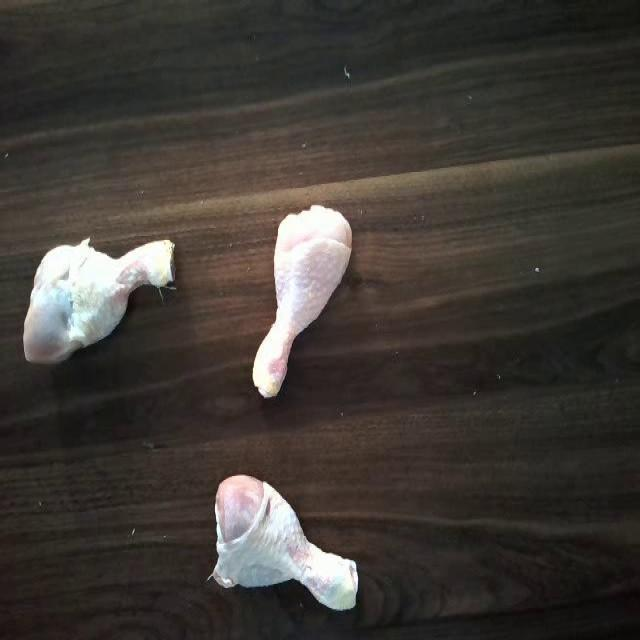leg: (208, 468, 366, 624), (248, 199, 358, 403), (21, 237, 176, 377)
